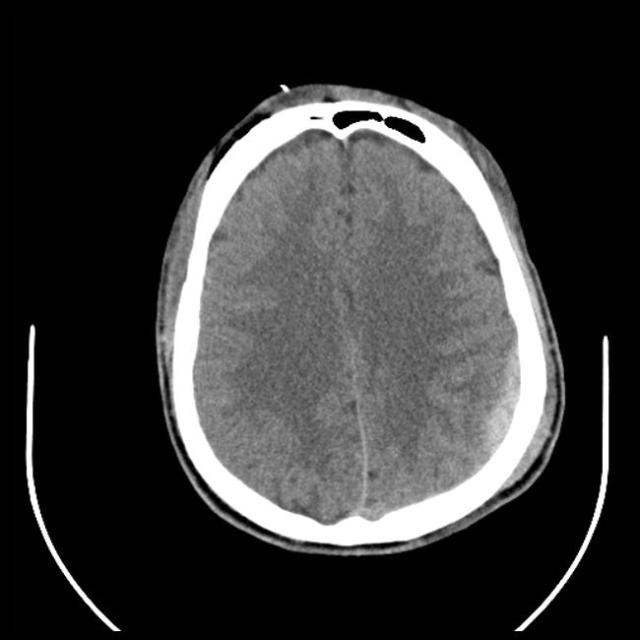lesion: (152, 81, 567, 554)
